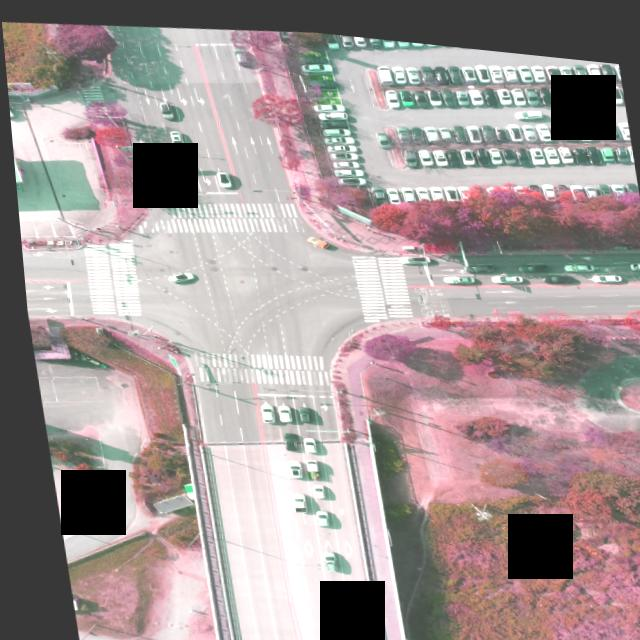car: (509, 96, 543, 111), (375, 56, 393, 79)
small_truck: (149, 150, 171, 177), (294, 453, 312, 477)
